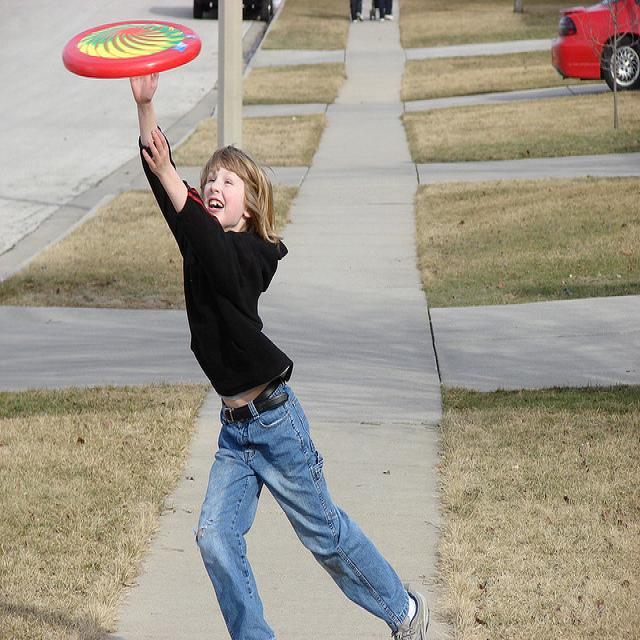Vehicle: (549, 2, 640, 98), (193, 0, 274, 21)
